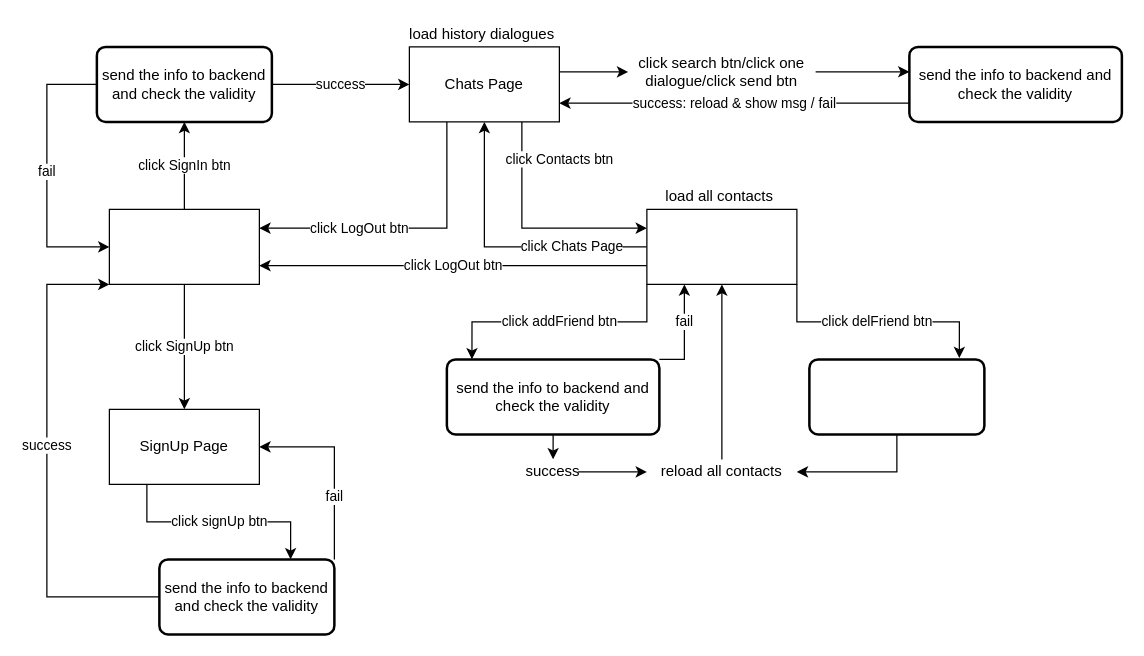
The diagram is 1144 pixels wide and 656 high, and some of its shapes have lost their labels. Each missing label, with the centre of its shape:
"Contacts Page" goes at point 721,246.
"LogIn Page" goes at point 183,246.
"send the info to backend" goes at point 896,396.
